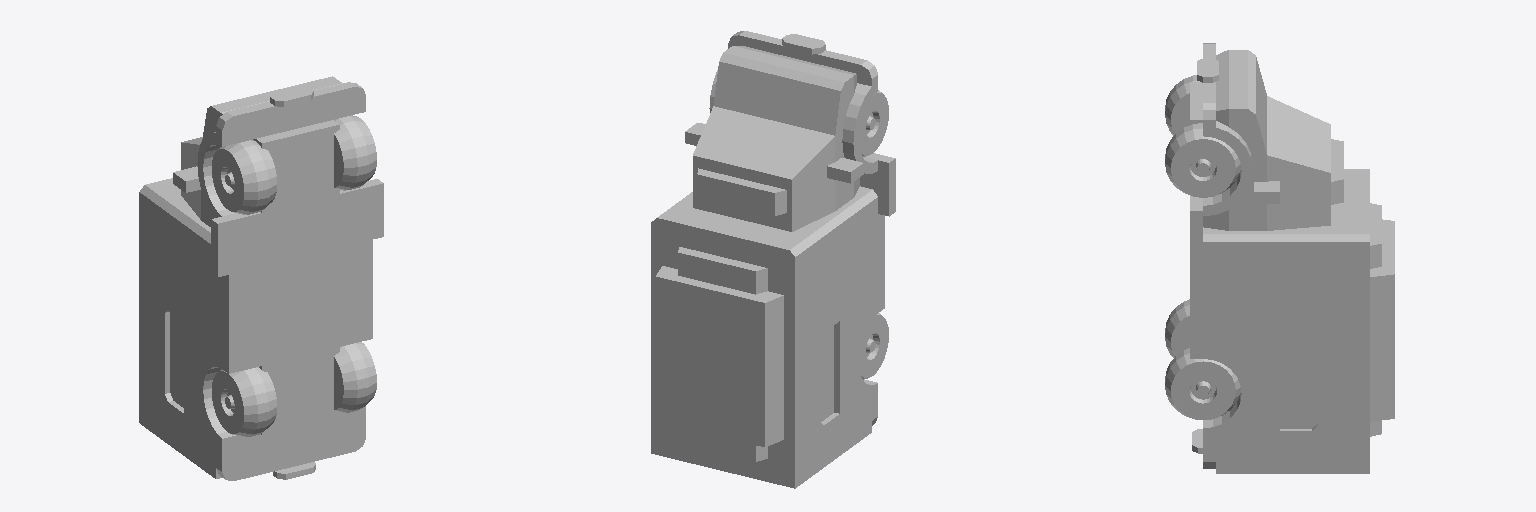
The model's file is ambulance.003.obj.
The picture shows the model from 3 angles: view 1: azimuth 30°, elevation 25°; view 2: azimuth 150°, elevation 25°; view 3: azimuth 270°, elevation 25°; orthographic projection.
Visible parts, largest first — view 1: ambulance.001; view 2: ambulance.001; view 3: ambulance.001.
Part boxes in pixels (x1,y1,x2,y2): ambulance.001: (139, 76, 383, 480); ambulance.001: (651, 31, 895, 488); ambulance.001: (1165, 43, 1394, 473).
Size of the model in its own units: 1.5 by 3.25 by 1.8.